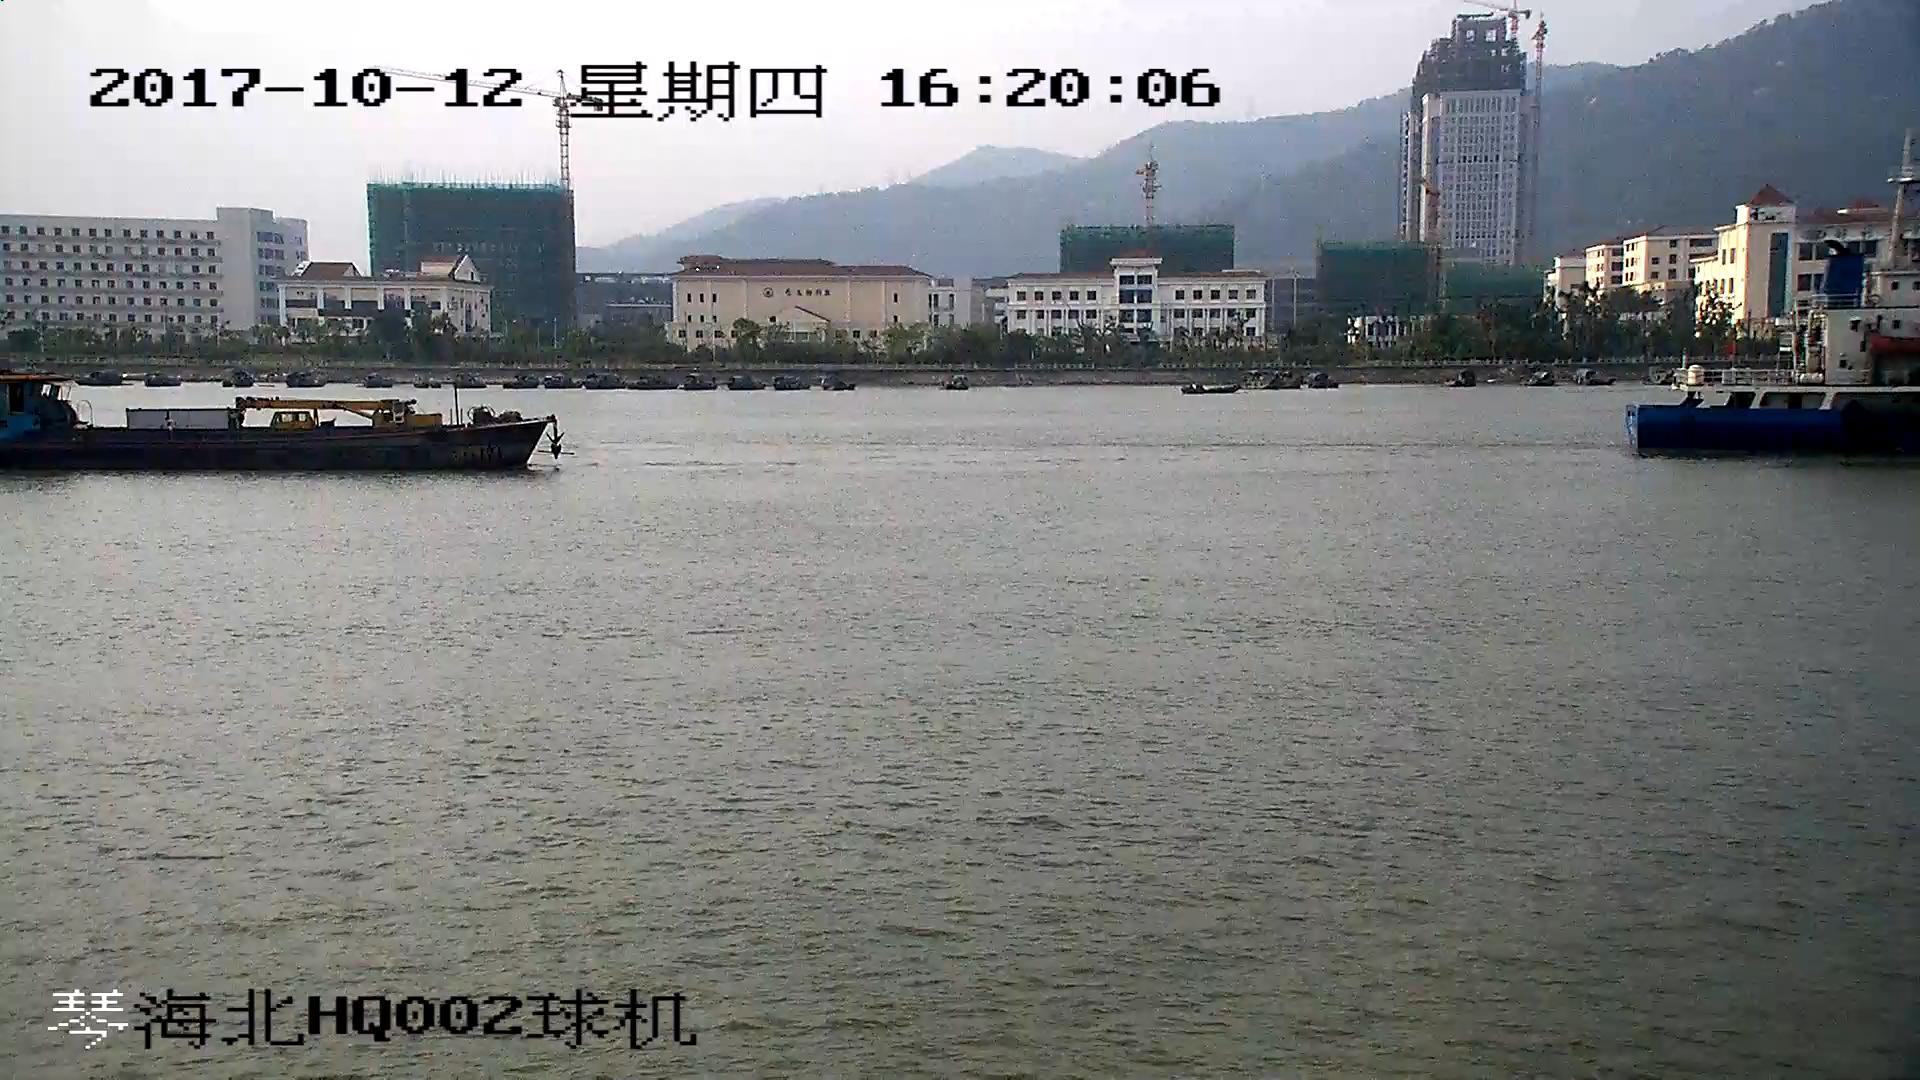bulk cargo carrier: (1628, 150, 1920, 463)
fishing boat: (1, 371, 564, 470)
